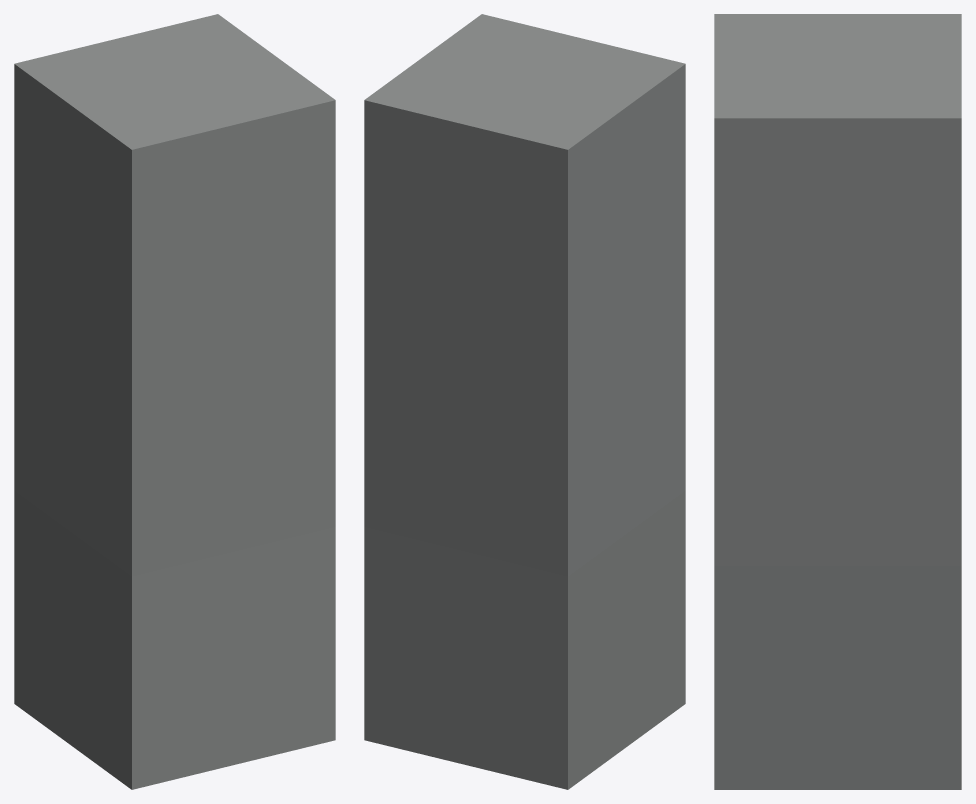
File: KemchugK3_Trigger.glb
3 renders of one model, left to right at view 1: azimuth 30°, elevation 25°; view 2: azimuth 150°, elevation 25°; view 3: azimuth 270°, elevation 25°, orthographic. The views are drawn at different scales.
Parts seen in each view (by area): view 1: Trigger_1; view 2: Trigger_1; view 3: Trigger_1.
Boxes of the visible parts, x1=… form: Trigger_1: x1=14, y1=14, x2=335, y2=789; Trigger_1: x1=364, y1=14, x2=685, y2=789; Trigger_1: x1=714, y1=14, x2=961, y2=789.
Size of the model in its own units: 0.00687 by 0.0206 by 0.00687.
1 material, 1 textured.
